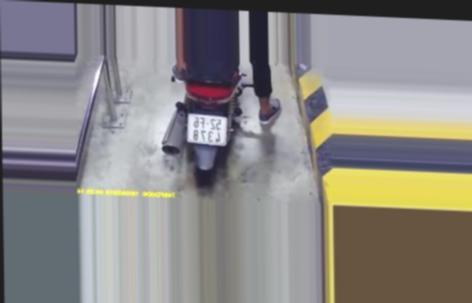License_Plate: (185, 111, 230, 148)
